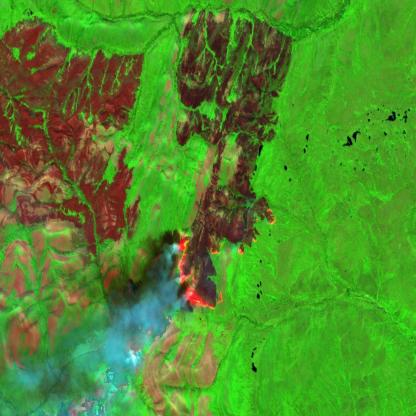fire: (176, 215, 218, 320)
